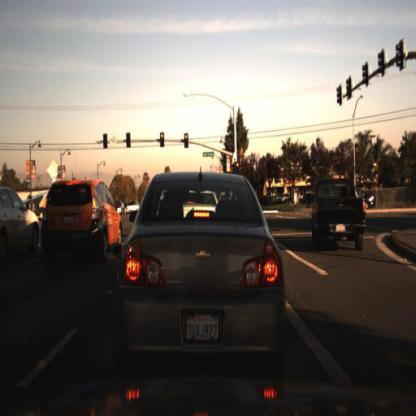car: (120, 173, 286, 370), (40, 175, 122, 270), (313, 181, 369, 253), (1, 192, 40, 263), (124, 199, 141, 217)
trafficLight-Red: (183, 132, 192, 151), (160, 132, 166, 150)
trafficLight-RedLeft: (125, 128, 133, 150), (101, 132, 109, 151)
